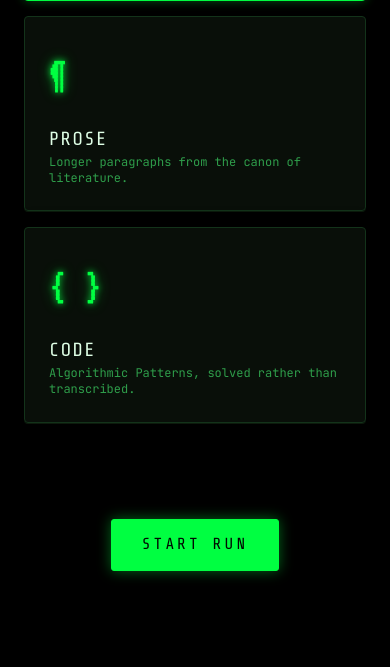
Test case: solving a Pattern › says on a phone that this Discipline wants a keyboard
This screenshot has width=390, height=667.
(page scrolled)
Click the button "Code": (75, 287) [24,228,366,423]
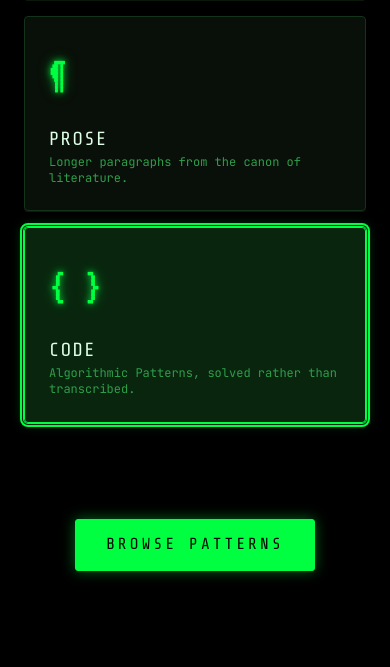
Click the button "Browse Patterns": (195, 545) [75,519,315,571]
(page scrolled)
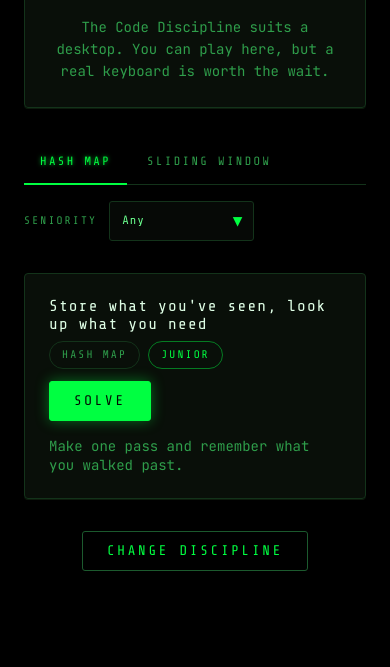
expect the text "suits a desktop" is shown: met, box [56,18,334,80]
